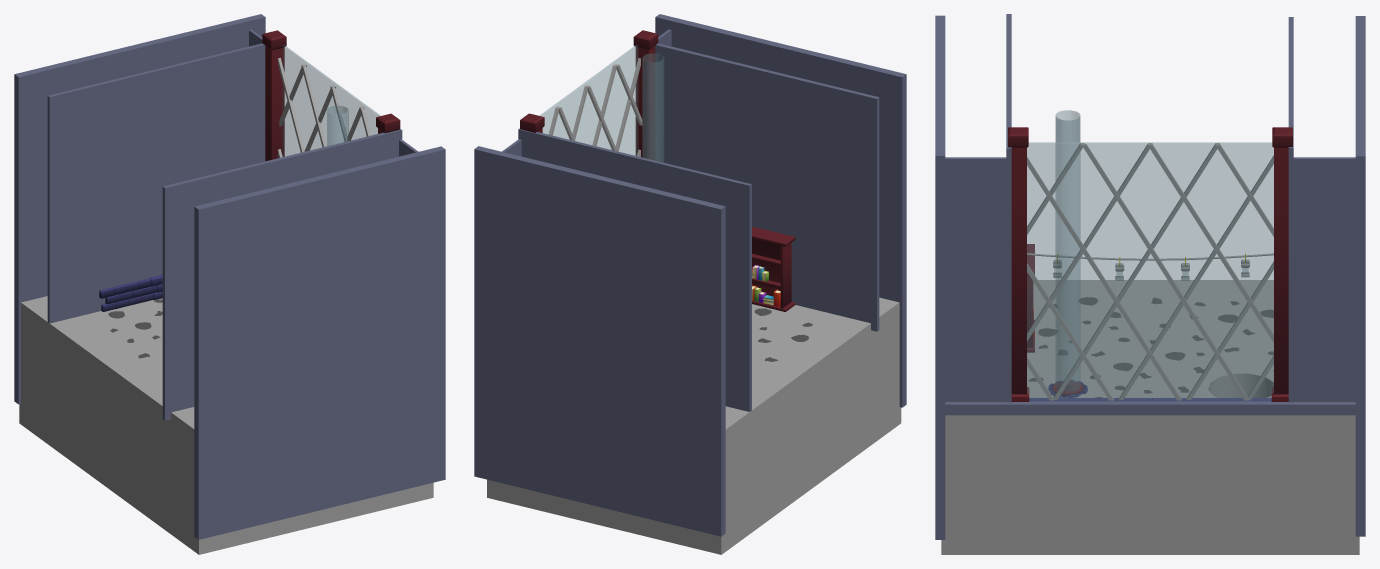
Rendered from super_structure.fbx.
3 views of the same model, side by side, from view 1: azimuth 30°, elevation 25°; view 2: azimuth 150°, elevation 25°; view 3: azimuth 270°, elevation 25° (orthographic). The views are drawn at different scales.
Visible parts, largest first — view 1: RH_BackWall_GEO, LH_Healthy_Wall_GEO, G_Healthy_Floor_GEO, LH_BackWall_GEO, RH_Healthy_Wall_GEO, F_GlassWall_GEO, LH_WoodenPole_GEO, F_RightAngleLead_GEO, LH_BrickWalls_GEO, GlassTube_GEO; view 2: LH_BackWall_GEO, RH_Healthy_Wall_GEO, G_Healthy_Floor_GEO, RH_BackWall_GEO, LH_Healthy_Wall_GEO, F_GlassWall_GEO, RH_WoodenPole_GEO, GlassTube_GEO, F_RightAngleLead_GEO, polySurface500, polySurface499, polySurface496; view 3: G_Healthy_Floor_GEO, F_GlassWall_GEO, F_LH_Wall_GEO, F_RH_Wall_GEO, F_RightAngleLead_GEO, GlassTube_GEO, F_Strip_GEO, RH_BackWall_GEO, LH_BackWall_GEO, RH_WoodenPole_GEO, LH_WoodenPole_GEO, RH_Healthy_Wall_GEO (+4 smaller).
Part boxes in pixels (x1,y1,x2,y2): RH_BackWall_GEO: (194, 146, 445, 539); LH_Healthy_Wall_GEO: (47, 43, 265, 323); G_Healthy_Floor_GEO: (19, 296, 433, 554); LH_BackWall_GEO: (14, 14, 265, 404); RH_Healthy_Wall_GEO: (162, 129, 402, 420); F_GlassWall_GEO: (282, 45, 380, 156); LH_WoodenPole_GEO: (262, 30, 286, 161); F_RightAngleLead_GEO: (278, 58, 370, 157); LH_BrickWalls_GEO: (99, 278, 157, 311); GlassTube_GEO: (327, 105, 348, 145); LH_BackWall_GEO: (474, 146, 725, 536); RH_Healthy_Wall_GEO: (655, 43, 879, 331); G_Healthy_Floor_GEO: (487, 297, 901, 554); RH_BackWall_GEO: (655, 14, 906, 407); LH_Healthy_Wall_GEO: (518, 128, 751, 411); F_GlassWall_GEO: (539, 45, 638, 155); RH_WoodenPole_GEO: (633, 30, 658, 159); GlassTube_GEO: (642, 53, 663, 162); F_RightAngleLead_GEO: (548, 58, 642, 156); polySurface500: (752, 239, 780, 296); polySurface499: (780, 243, 791, 308); polySurface496: (752, 226, 795, 246); G_Healthy_Floor_GEO: (941, 280, 1359, 554); F_GlassWall_GEO: (1027, 142, 1273, 400); F_LH_Wall_GEO: (1293, 157, 1355, 401); F_RH_Wall_GEO: (945, 157, 1006, 401); F_RightAngleLead_GEO: (1027, 143, 1273, 400); GlassTube_GEO: (1055, 110, 1080, 391); F_Strip_GEO: (945, 401, 1355, 415); RH_BackWall_GEO: (935, 15, 945, 539); LH_BackWall_GEO: (1355, 16, 1365, 536); RH_WoodenPole_GEO: (1008, 127, 1029, 401); LH_WoodenPole_GEO: (1271, 127, 1292, 401); RH_Healthy_Wall_GEO: (1006, 14, 1011, 402).
Bounding box in the file's own units: 31.57 × 43.21 × 40.33.
